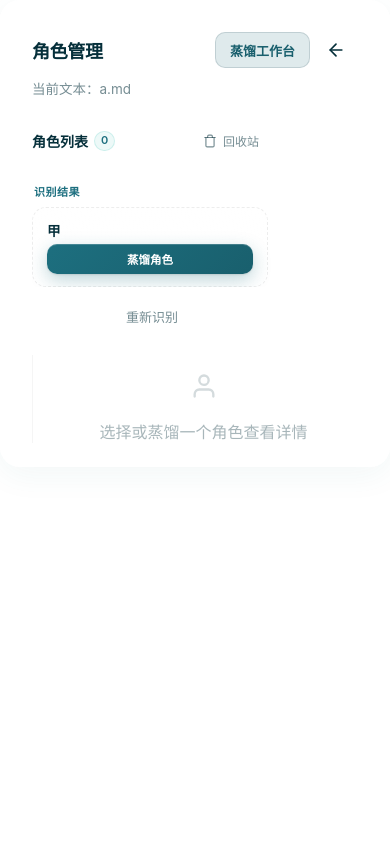
Scenario: D24 ①b 第 3 步：重新识别 › 重新识别失败后名单仍在，error 有值
Click the button "重新识别": (152, 317) x1=32 y1=299 x2=272 y2=335
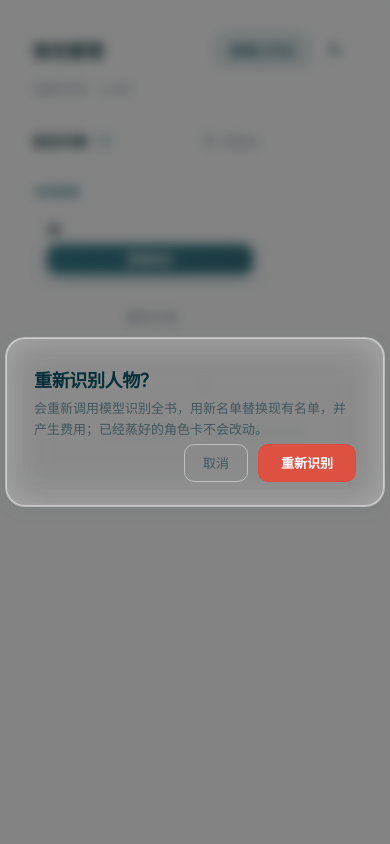
Click the button "重新识别": (307, 463) x1=258 y1=444 x2=356 y2=482
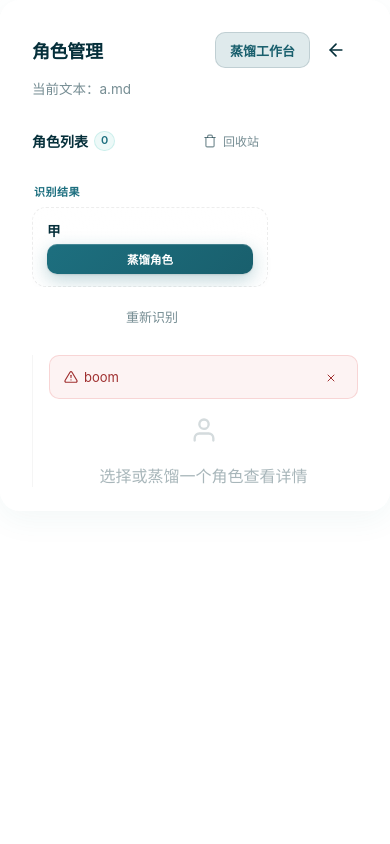
Expected: the text "甲" is shown, x1=47 y1=220 x2=60 y2=240
Result: the element showing "boom" is shown at x1=64 y1=369 x2=119 y2=385
